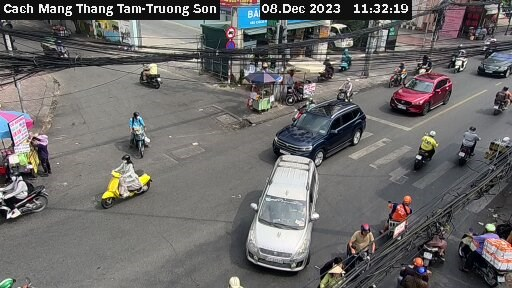car: (244, 154, 321, 277), (273, 99, 368, 164), (390, 72, 454, 116), (480, 47, 512, 81)
motorbike: (92, 152, 161, 211), (1, 177, 55, 225), (462, 221, 503, 275), (377, 199, 425, 245), (115, 112, 161, 154), (128, 56, 171, 93), (409, 134, 445, 178), (414, 230, 458, 266), (450, 127, 479, 166), (327, 79, 361, 106), (484, 82, 512, 114), (410, 53, 437, 73), (386, 62, 406, 86), (452, 52, 473, 73)
